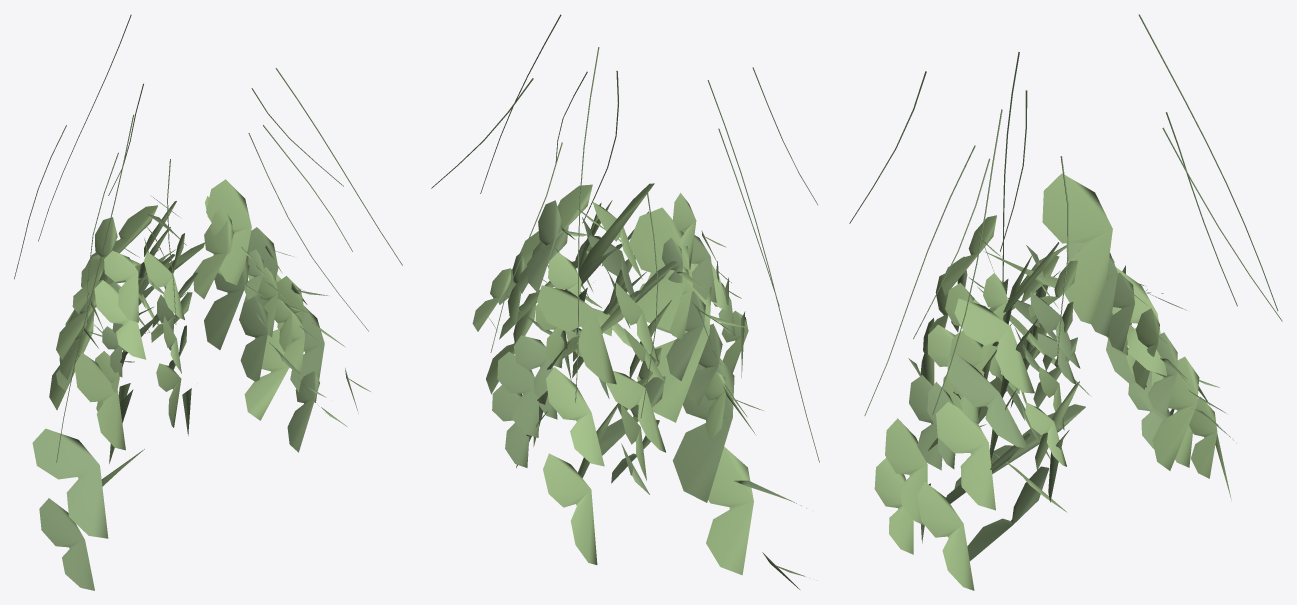
Rendered from bower-foliage.glb.
3 renders of one model, left to right at view 1: azimuth 30°, elevation 25°; view 2: azimuth 150°, elevation 25°; view 3: azimuth 270°, elevation 25°, orthographic. The views are drawn at different scales.
Visible parts, largest first — view 1: bower-foliage-mass, bower-foliage-spray; view 2: bower-foliage-mass, bower-foliage-spray; view 3: bower-foliage-mass, bower-foliage-spray.
Boxes of the visible parts, box(x1,y1,x2,y2) form: bower-foliage-mass: box(14, 83, 368, 452); bower-foliage-spray: box(32, 14, 402, 590); bower-foliage-mass: box(431, 67, 817, 494); bower-foliage-spray: box(480, 14, 819, 589); bower-foliage-mass: box(849, 71, 1282, 554); bower-foliage-spray: box(917, 14, 1278, 590).
Bounding box in the file's own units: 1.89 × 2.79 × 1.79.
